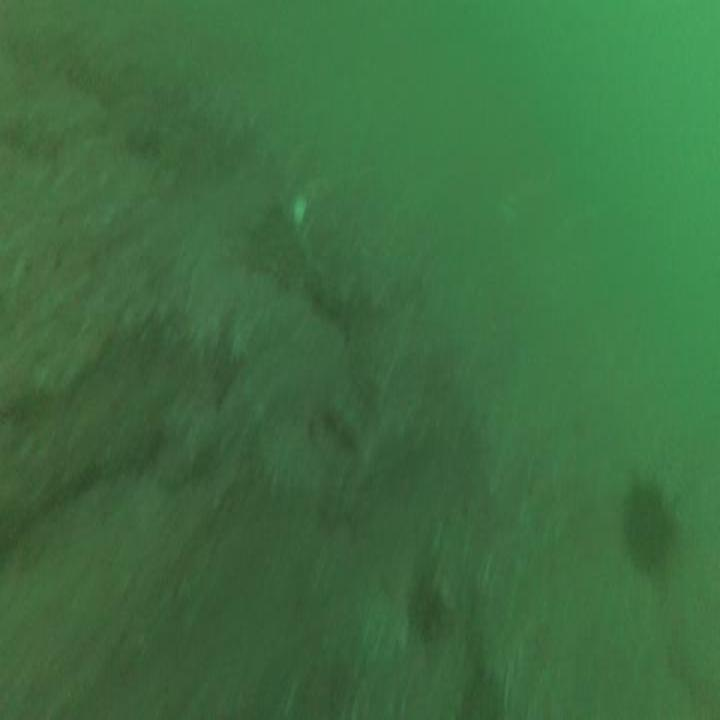echinus: (617, 457, 687, 585)
